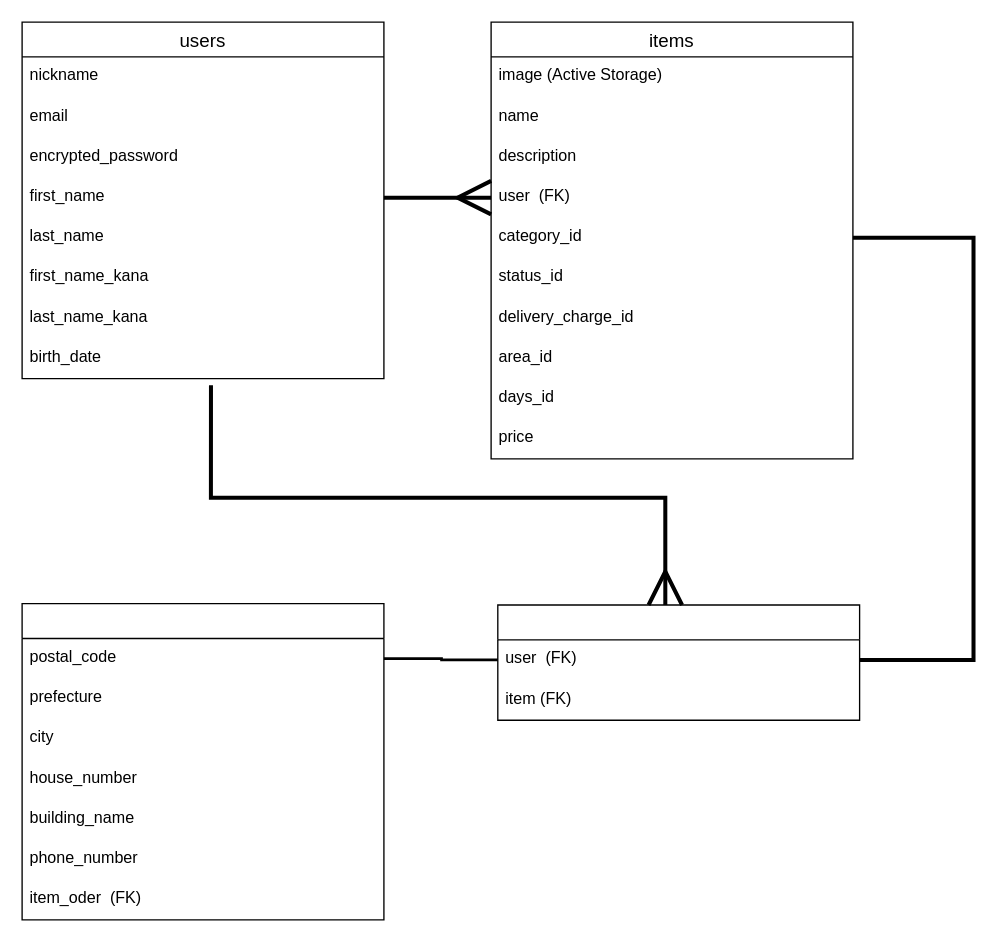
The diagram is 996 pixels wide and 942 high, and some of its shapes have lost their labels. Here are the shapes that lost their labels. From the top down, the box of each, then its label:
(496, 604, 860, 720): item_order
(21, 602, 384, 920): shipping_address
